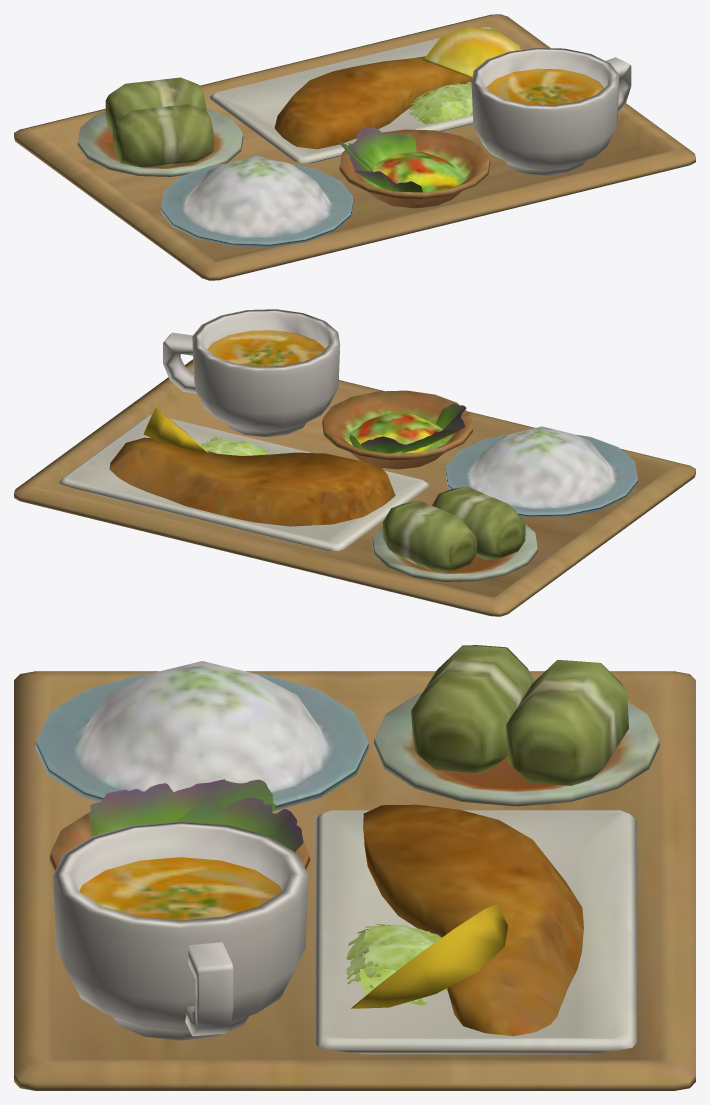
3 renders of one model, top to bottom at view 1: azimuth 30°, elevation 25°; view 2: azimuth 150°, elevation 25°; view 3: azimuth 270°, elevation 25°, orthographic. The views are drawn at different scales.
Size of the model in its own units: 9.17 by 1.54 by 6.43.
1 material, 1 textured.
